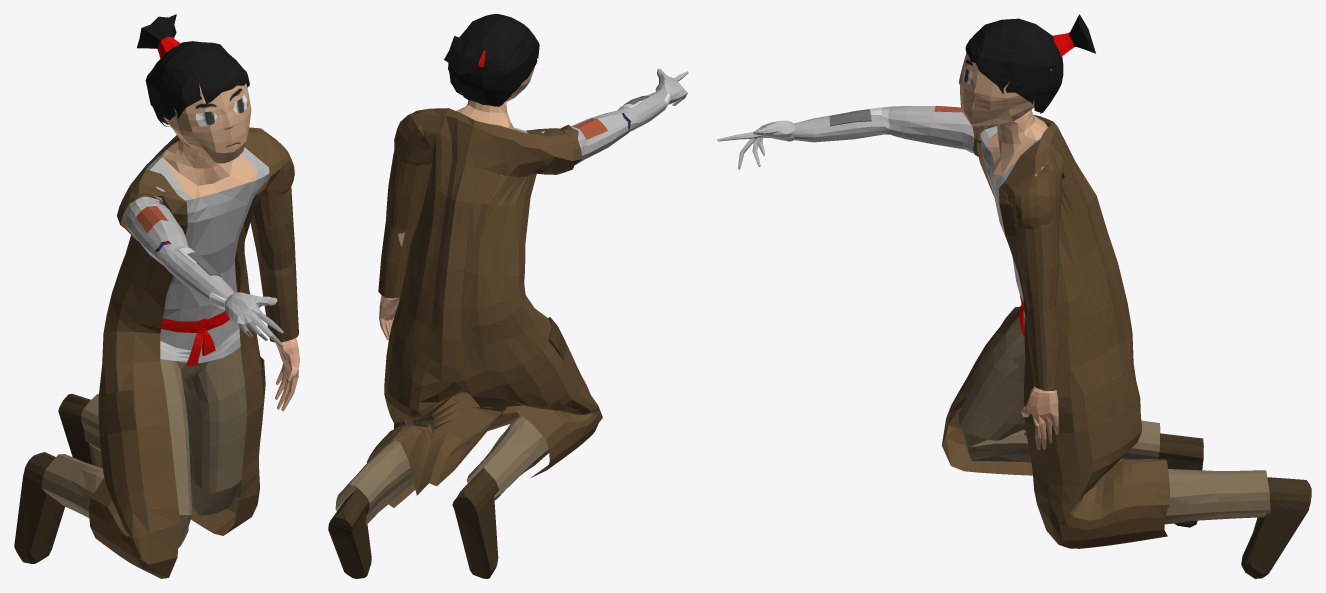
The model's file is One_Die_000024.obj.
The picture shows the model from 3 angles, left to right: view 1: azimuth 30°, elevation 25°; view 2: azimuth 150°, elevation 25°; view 3: azimuth 270°, elevation 25°; orthographic projection. The views are drawn at different scales.
Parts seen in each view (by area): view 1: Hair_Cube.004; view 2: Hair_Cube.004; view 3: Hair_Cube.004.
Boxes of the visible parts, x1,y1,x2,y2 form: Hair_Cube.004: (14, 14, 299, 578); Hair_Cube.004: (328, 14, 688, 578); Hair_Cube.004: (717, 14, 1311, 578).
Bounding box in the file's own units: 1.21 × 3.03 × 2.99.
